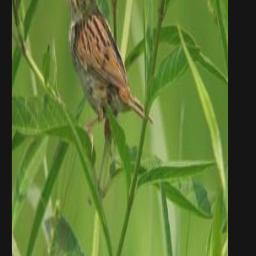Sparrow: (56, 0, 156, 165)
